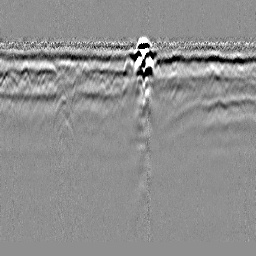cavity: (123, 56, 135, 76)
